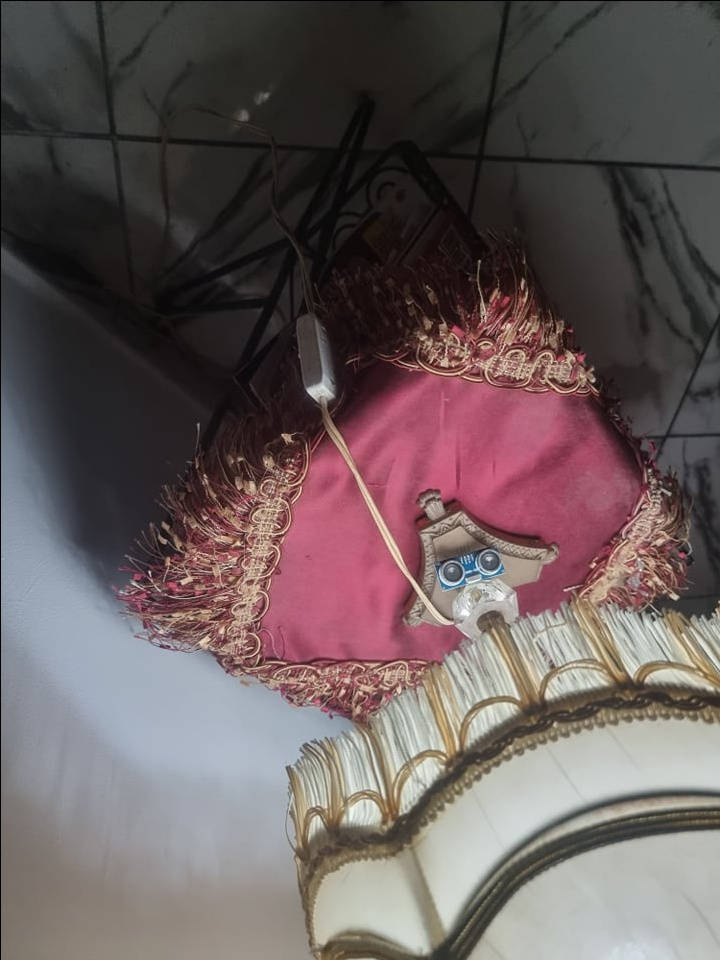SENSOR: (431, 545, 506, 590)
